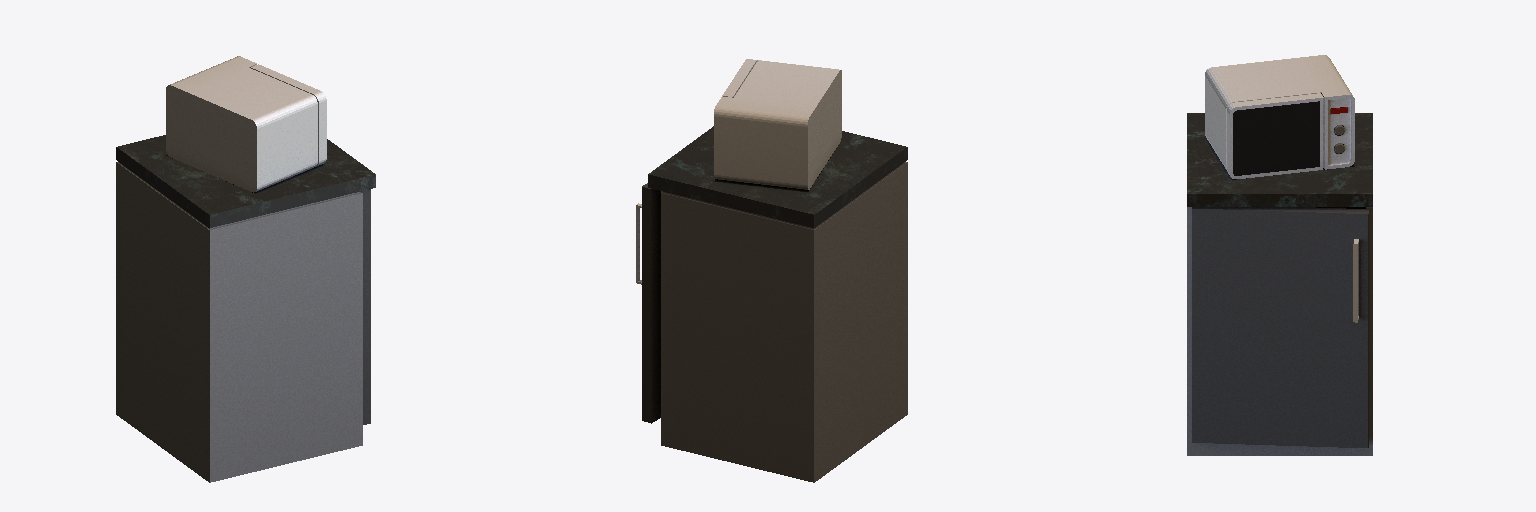
The picture shows the model from 3 angles: view 1: azimuth 30°, elevation 25°; view 2: azimuth 150°, elevation 25°; view 3: azimuth 270°, elevation 25°; orthographic projection.
Parts seen in each view (by area): view 1: micro_onde_Cube.008; view 2: micro_onde_Cube.008; view 3: micro_onde_Cube.008.
Part boxes in pixels (bbox=[...]): micro_onde_Cube.008: bbox=[116, 56, 375, 482]; micro_onde_Cube.008: bbox=[636, 59, 907, 482]; micro_onde_Cube.008: bbox=[1187, 55, 1372, 455].
Bounding box in the file's own units: 1.45 × 2.54 × 1.26.
Materials: 1 (1 with a texture image).